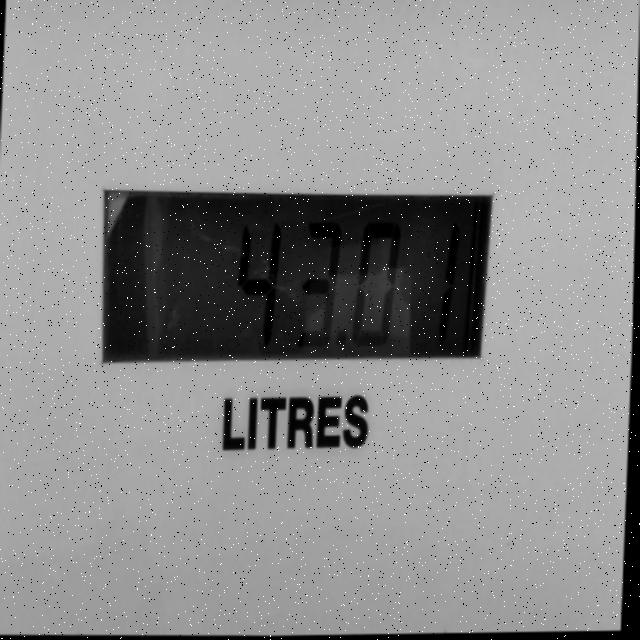.: (333, 314, 352, 359)
0: (351, 215, 407, 354)
1: (425, 222, 470, 352)
3: (295, 204, 345, 362)
